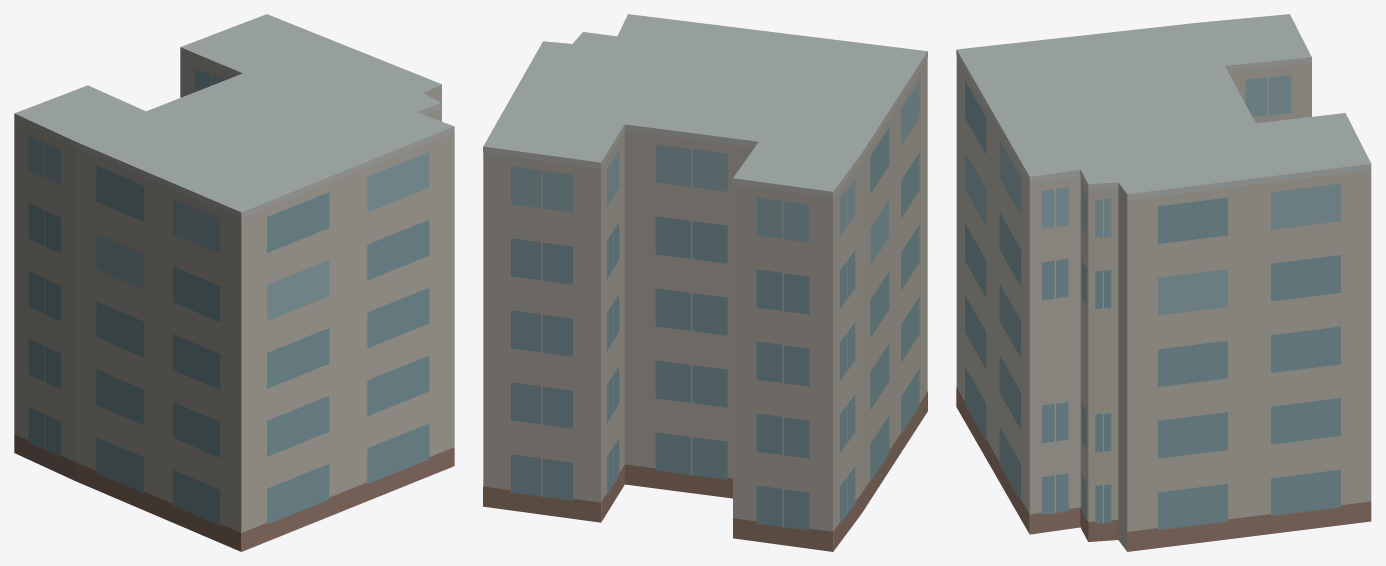
File: survey-upis-33037128.glb
3 views of the same model, side by side, from view 1: azimuth 30°, elevation 25°; view 2: azimuth 150°, elevation 25°; view 3: azimuth 270°, elevation 25° (orthographic). The views are drawn at different scales.
Parts seen in each view (by area): view 1: survey-upis-33037128.tmp; view 2: survey-upis-33037128.tmp; view 3: survey-upis-33037128.tmp.
Boxes of the visible parts, bbox=[...] form: survey-upis-33037128.tmp: bbox=[14, 14, 454, 551]; survey-upis-33037128.tmp: bbox=[483, 14, 927, 551]; survey-upis-33037128.tmp: bbox=[956, 14, 1371, 551].
Size of the model in its own units: 15.79 by 14.6 by 15.36.
